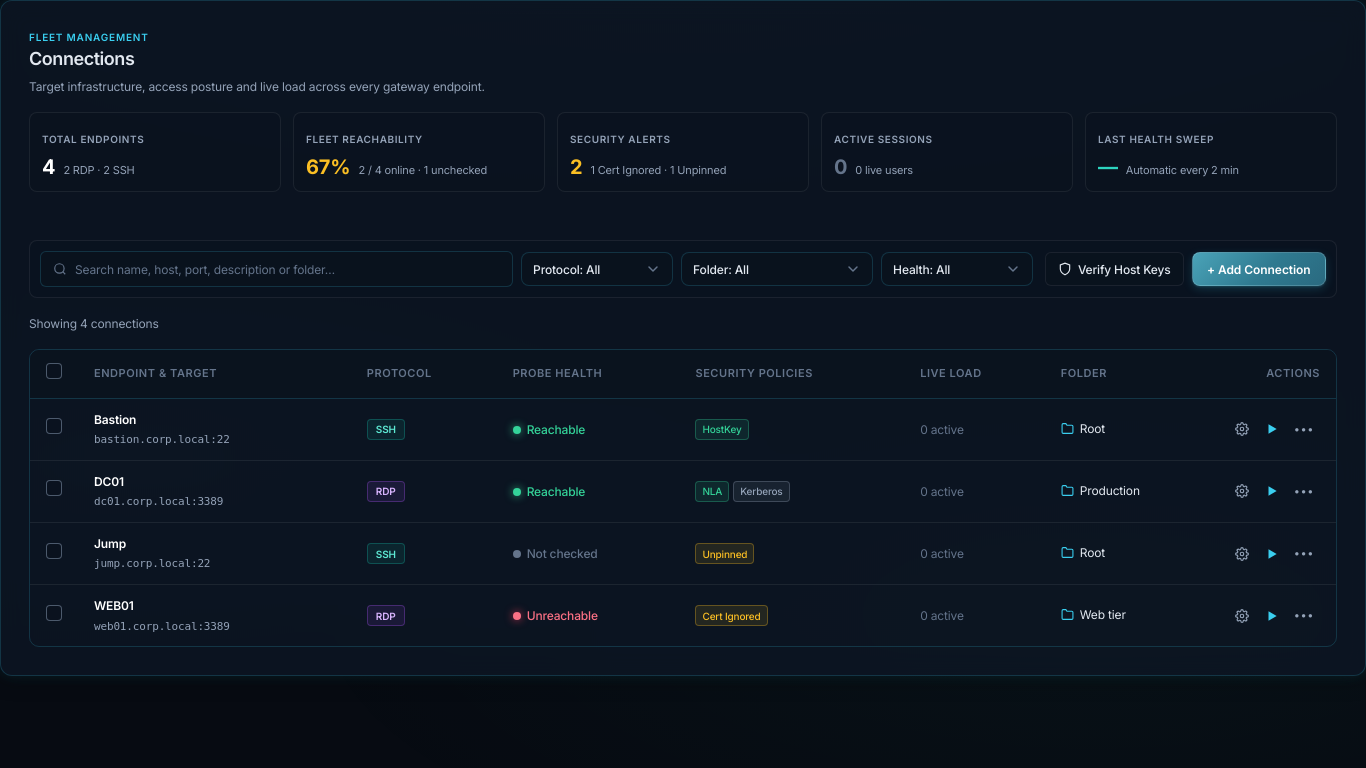
it: FleetManager › probes a single endpoint and shows the measured latency
Click the button named "Probe DC01" at point(1272, 492), box [1258,478,1286,506]
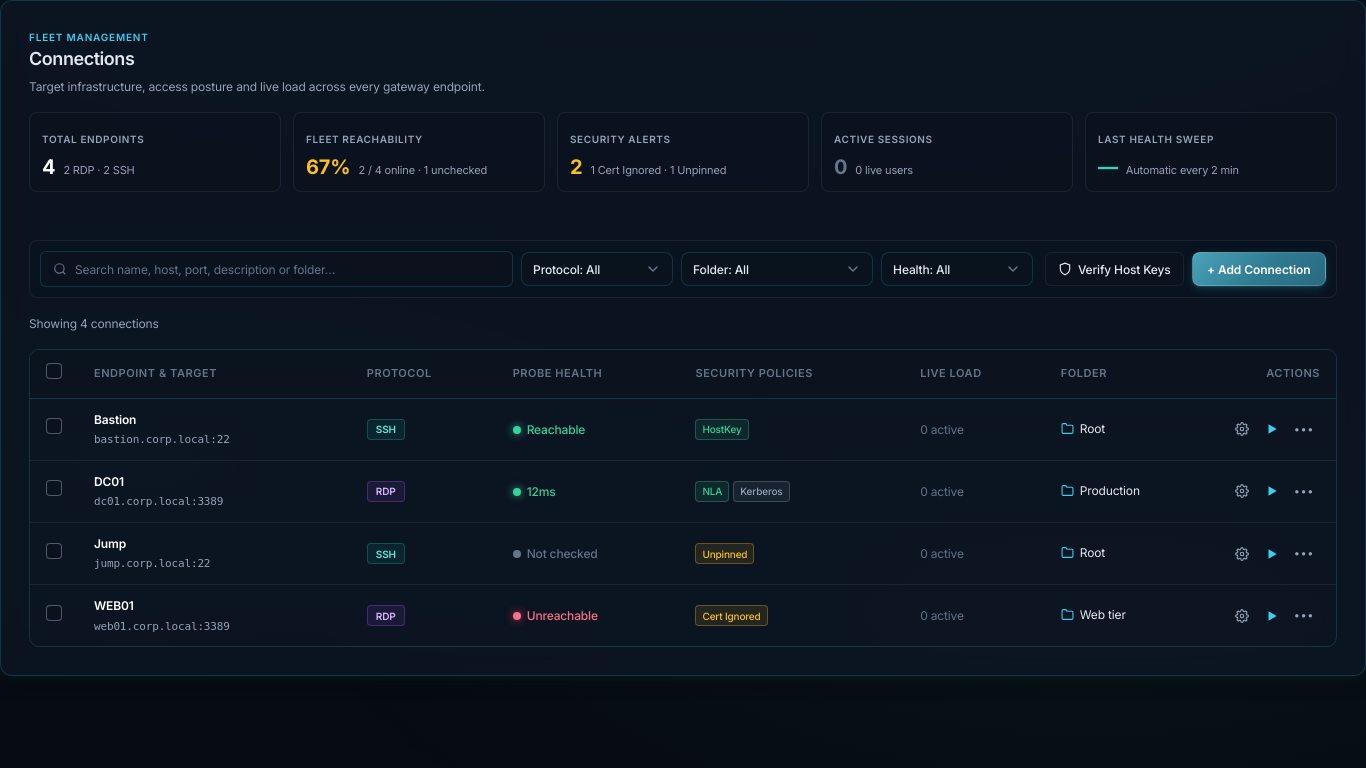
Expected: the text "12ms" is shown, [513,482,556,501]
